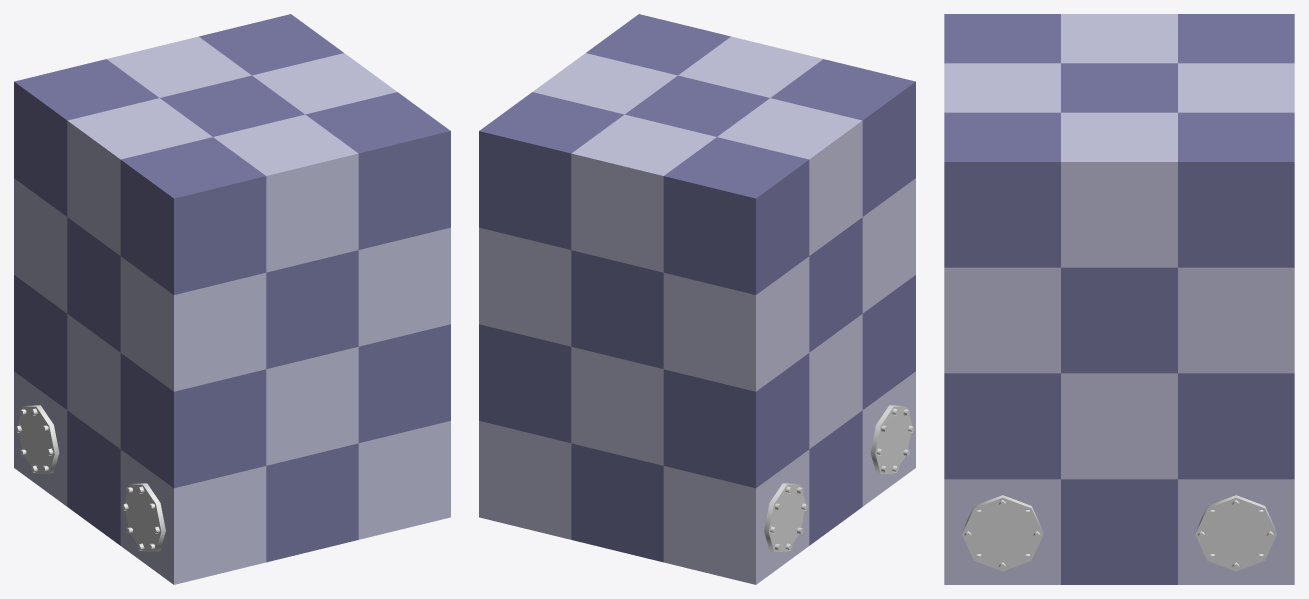
The model's file is fluidsmall.fbx.
3 views of the same model, side by side, from view 1: azimuth 30°, elevation 25°; view 2: azimuth 150°, elevation 25°; view 3: azimuth 270°, elevation 25° (orthographic). The views are drawn at different scales.
Visible parts, largest first — view 1: SmallStorage_StorageFluidSmall; view 2: SmallStorage_StorageFluidSmall; view 3: SmallStorage_StorageFluidSmall.
Boxes of the visible parts, <box> form: SmallStorage_StorageFluidSmall: <box>14,14,450,584</box>; SmallStorage_StorageFluidSmall: <box>479,14,915,584</box>; SmallStorage_StorageFluidSmall: <box>944,14,1294,584</box>.
Bounding box in the file's own units: 635 × 800 × 600.
